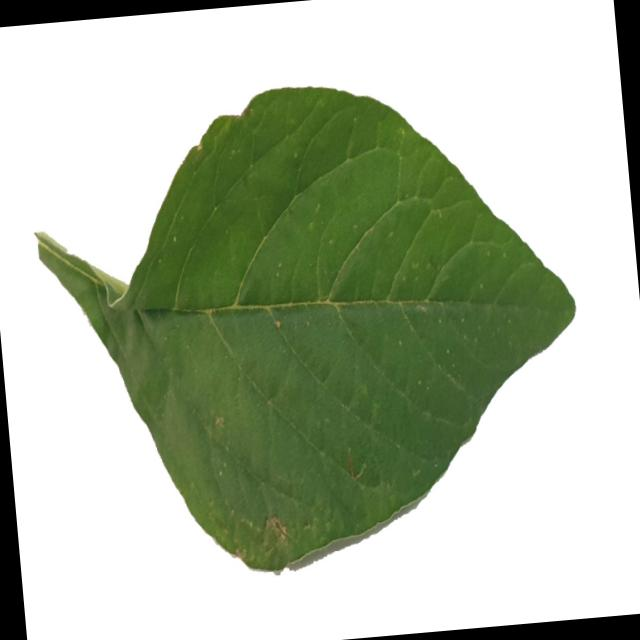Medicinal-Arive Dantu: (22, 61, 596, 589)
